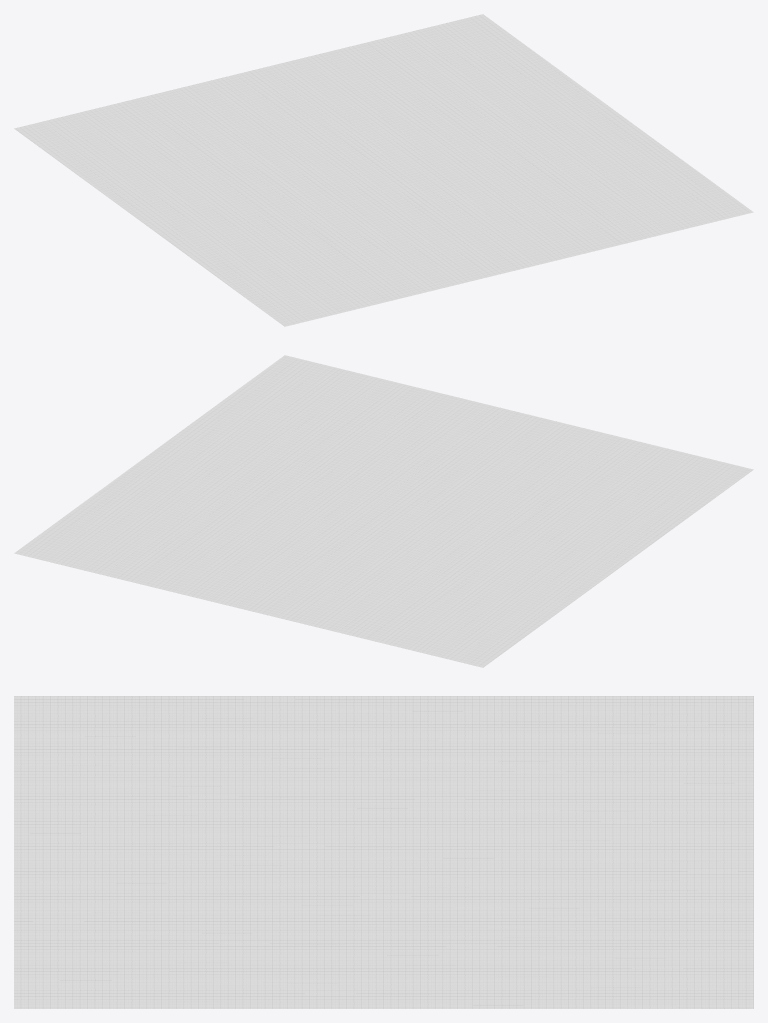
The model's file is GeoWithCamera.fbx.
The picture shows the model from 3 angles, top to bottom: view 1: azimuth 30°, elevation 25°; view 2: azimuth 150°, elevation 25°; view 3: azimuth 270°, elevation 25°; orthographic projection. The views are drawn at different scales.
Visible parts, largest first — view 1: Ground1; view 2: Ground1; view 3: Ground1.
Part boxes in pixels (bbox=[...]): Ground1: bbox=[14, 14, 753, 326]; Ground1: bbox=[14, 355, 753, 667]; Ground1: bbox=[14, 696, 753, 1008].
Size of what is drawn, in the model's own units: 4500 by 0.000679 by 4500.
Materials: 1 (1 with a texture image).
